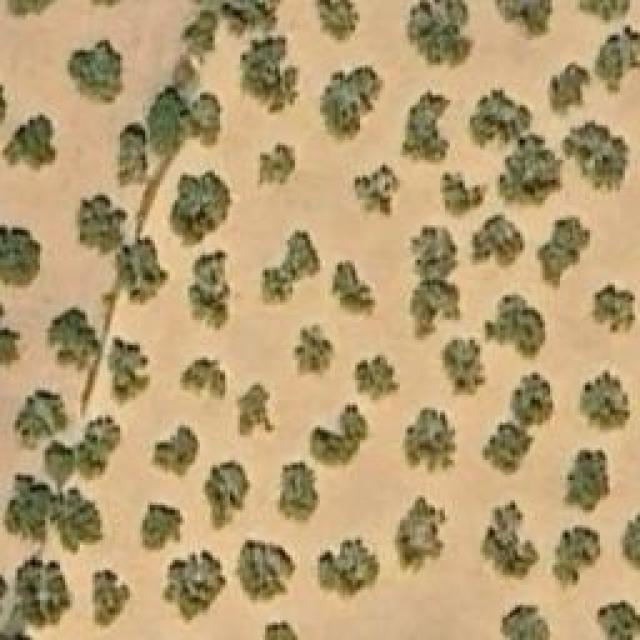Tree: (480, 373, 555, 478), (408, 225, 463, 343), (313, 63, 386, 146), (168, 170, 233, 253), (407, 0, 475, 75), (495, 133, 563, 208), (565, 120, 630, 195), (480, 500, 540, 580), (258, 230, 321, 305), (165, 548, 228, 621), (393, 495, 446, 575), (468, 85, 533, 148), (237, 40, 295, 110), (398, 90, 451, 165), (235, 540, 298, 603), (67, 37, 125, 105), (538, 215, 591, 288), (308, 405, 368, 468), (403, 407, 458, 475), (550, 525, 603, 595), (318, 537, 381, 595), (15, 560, 70, 625), (188, 250, 231, 333), (0, 113, 58, 173), (470, 213, 525, 276), (485, 295, 543, 353), (578, 370, 631, 433), (562, 447, 610, 515), (150, 423, 200, 486), (52, 310, 100, 373), (353, 163, 403, 223), (113, 240, 163, 300), (0, 220, 42, 290), (203, 463, 248, 528), (595, 25, 640, 90), (108, 337, 151, 405), (15, 390, 70, 443), (328, 262, 378, 320), (278, 460, 318, 523), (440, 173, 488, 223), (355, 355, 403, 405), (137, 503, 185, 553), (145, 98, 190, 151), (293, 325, 336, 380), (55, 493, 98, 548), (495, 0, 553, 40), (80, 195, 120, 253), (92, 570, 130, 630), (593, 285, 636, 338), (12, 477, 50, 535), (548, 63, 588, 118), (78, 420, 118, 475), (177, 358, 225, 403), (115, 123, 148, 183), (312, 0, 359, 42), (235, 385, 273, 435), (190, 93, 225, 146), (227, 0, 282, 32), (500, 605, 550, 640), (257, 143, 295, 188), (595, 602, 640, 640), (445, 340, 478, 390), (617, 510, 640, 575), (0, 303, 20, 373), (575, 0, 630, 25), (43, 445, 73, 480), (8, 0, 61, 18), (263, 620, 298, 640)
